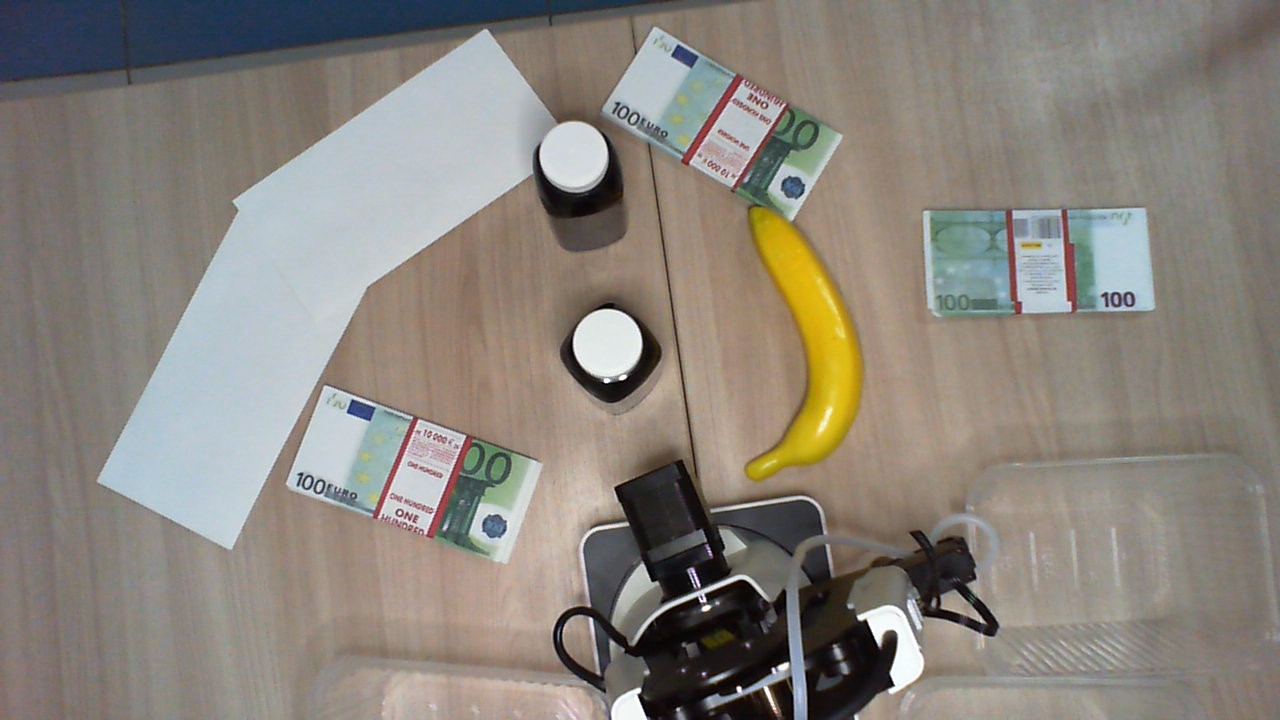banana: (741, 205, 863, 484)
bottle: (558, 302, 666, 408), (533, 120, 625, 217)
convert: (229, 24, 566, 314), (96, 207, 375, 553)
money: (287, 385, 548, 562), (604, 29, 843, 219), (922, 203, 1144, 322)
